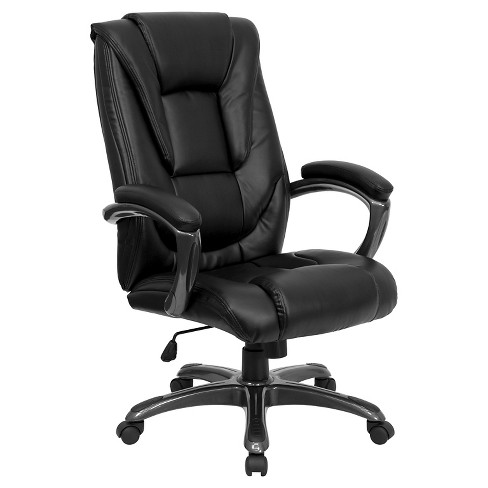chairs: (76, 9, 398, 477)
